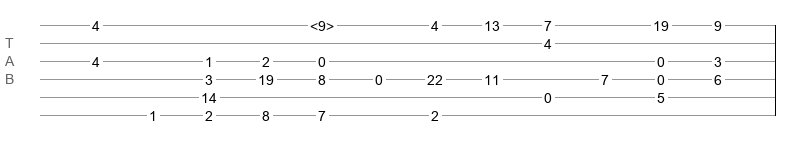0: (318, 54, 326, 64), (375, 72, 383, 82), (544, 90, 552, 100), (657, 54, 665, 64), (657, 72, 665, 82)
1: (149, 108, 157, 118), (205, 54, 213, 64)
11: (484, 72, 500, 82)
13: (484, 18, 500, 28)
14: (201, 90, 217, 100)
19: (258, 72, 274, 82), (653, 18, 669, 28)
2: (205, 108, 213, 118), (262, 54, 270, 64), (431, 108, 439, 118)
22: (427, 72, 443, 82)
3: (205, 72, 213, 82), (714, 54, 722, 64)
4: (92, 54, 100, 64), (92, 18, 100, 28), (431, 18, 439, 28), (544, 36, 552, 46)
5: (657, 90, 665, 100)
6: (714, 72, 722, 82)
7: (318, 108, 326, 118), (544, 18, 552, 28), (601, 72, 609, 82)
8: (262, 108, 270, 118), (318, 72, 326, 82)
9: (714, 18, 722, 28)
harmonic: (310, 18, 334, 28)
